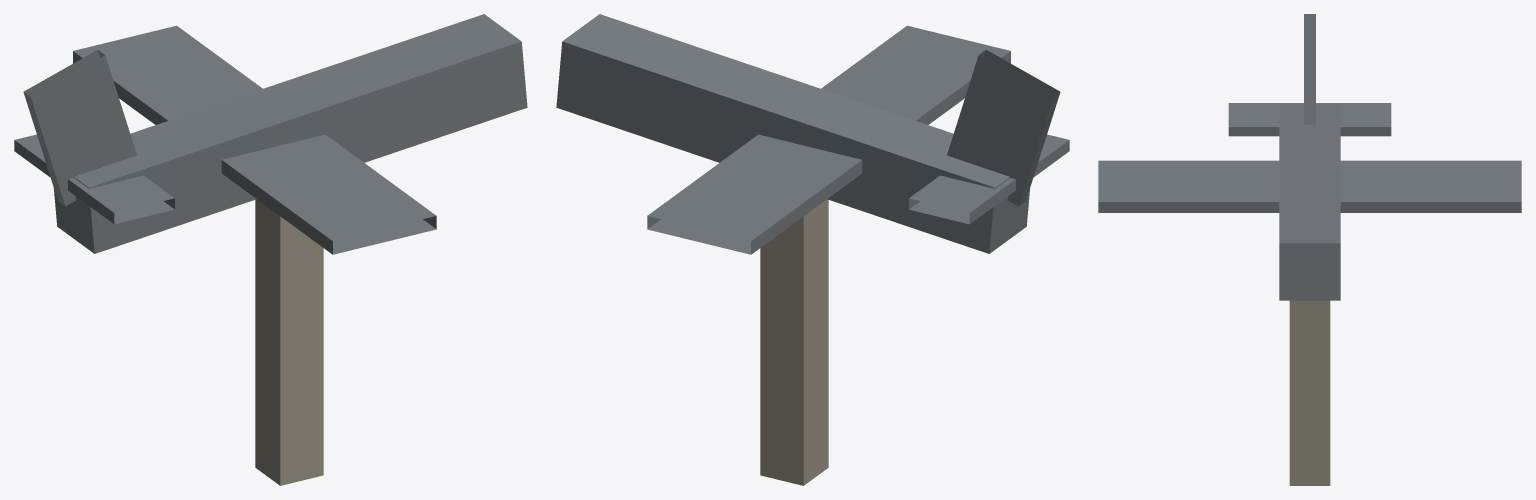
Rendered from monumen-skyhawk-lod1.glb.
The picture shows the model from 3 angles, left to right: view 1: azimuth 30°, elevation 25°; view 2: azimuth 150°, elevation 25°; view 3: azimuth 270°, elevation 25°; orthographic projection. The views are drawn at different scales.
Visible parts, largest first — view 1: monumen-skyhawk_LOD1; view 2: monumen-skyhawk_LOD1; view 3: monumen-skyhawk_LOD1.
Boxes of the visible parts, bbox=[...] form: monumen-skyhawk_LOD1: bbox=[14, 14, 527, 485]; monumen-skyhawk_LOD1: bbox=[556, 14, 1069, 485]; monumen-skyhawk_LOD1: bbox=[1098, 14, 1521, 485].
Size of the model in its own units: 11.13 by 10.26 by 10.4.
